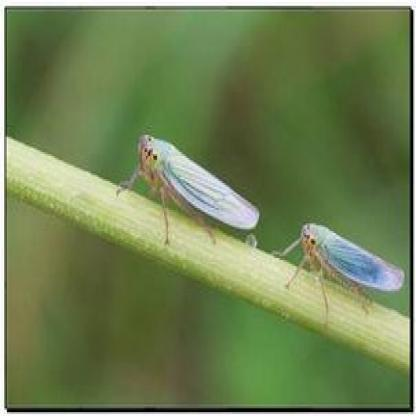Green-Leafhopper: (117, 132, 260, 250), (287, 224, 404, 318)
